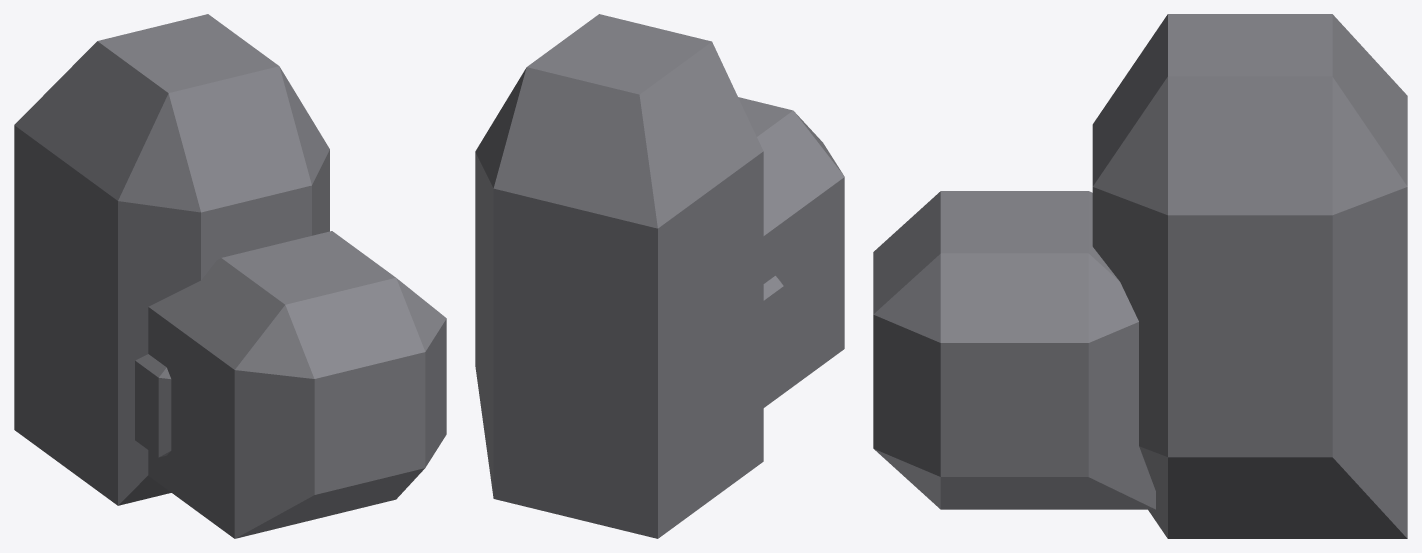
File: filice_chiara_waterrock.glb
3 renders of one model, left to right at view 1: azimuth 30°, elevation 25°; view 2: azimuth 150°, elevation 25°; view 3: azimuth 270°, elevation 25°, orthographic. The views are drawn at different scales.
Visible parts, largest first — view 1: Cube.001, Cube, Cube.002; view 2: Cube.001, Cube, Cube.002; view 3: Cube.001, Cube.
Part boxes in pixels (left/top/right/bottom): Cube.001: left=14, top=14, right=329, bottom=505; Cube: left=148, top=231, right=446, bottom=538; Cube.002: left=135, top=354, right=171, bottom=457; Cube.001: left=475, top=14, right=763, bottom=538; Cube: left=738, top=97, right=844, bottom=407; Cube.002: left=763, top=275, right=783, bottom=381; Cube.001: left=1092, top=14, right=1407, bottom=538; Cube: left=873, top=191, right=1155, bottom=509.
Bounding box in the file's own units: 4.66 × 7.74 × 8.1.
Materials: 1 (1 with a texture image).
